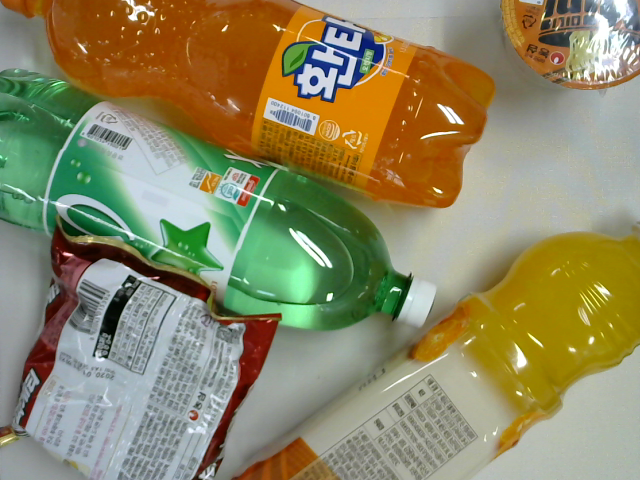Chilseong_Cider_1.5L: (1, 65, 438, 328)
Hwanta_Orange_1.5L: (1, 1, 496, 209)
Jeju_Tangerine_1.5L: (234, 218, 640, 478)
Sichuan_Chapaghetti: (1, 216, 283, 480)
Udongmini: (501, 1, 640, 91)
